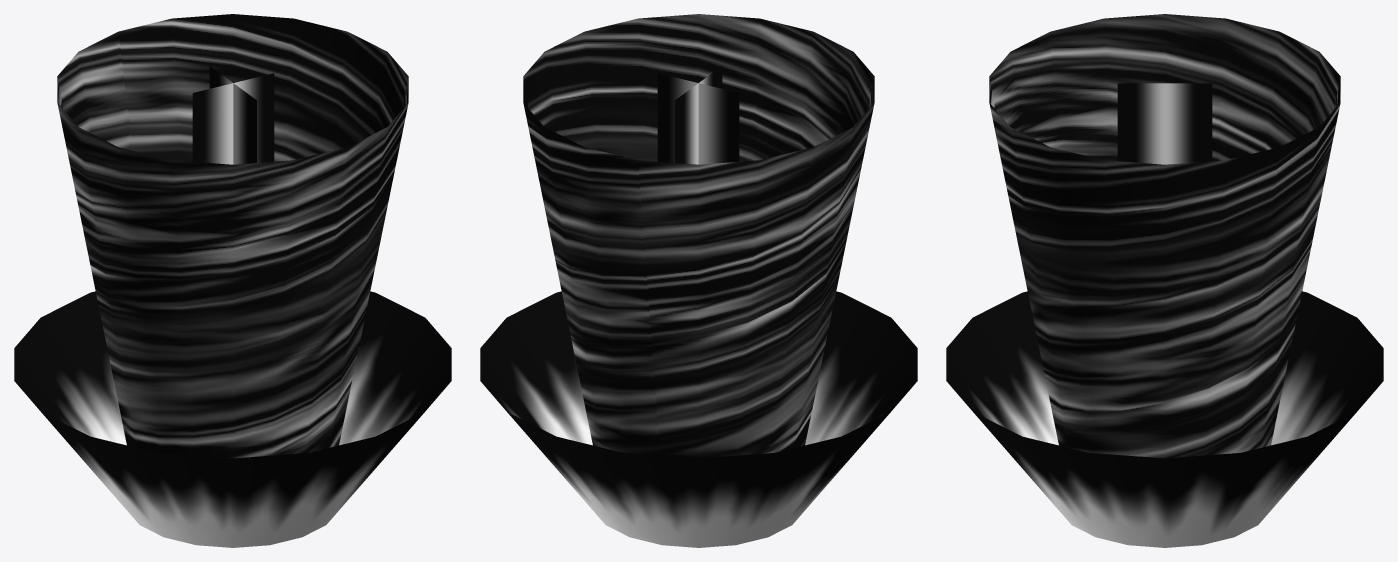
The model's file is Cyclone.FBX.
The picture shows the model from 3 angles, left to right: view 1: azimuth 30°, elevation 25°; view 2: azimuth 150°, elevation 25°; view 3: azimuth 270°, elevation 25°; orthographic projection.
Parts seen in each view (by area): view 1: Cylinder001, Cylinder002, Plane001, Plane002; view 2: Cylinder001, Cylinder002, Plane001, Plane002; view 3: Cylinder001, Cylinder002, Plane002.
Part boxes in pixels (x1,y1,x2,y2): Cylinder001: [57, 14, 408, 458]; Cylinder002: [14, 291, 451, 547]; Plane001: [192, 73, 274, 164]; Plane002: [209, 66, 256, 164]; Cylinder001: [523, 14, 874, 458]; Cylinder002: [480, 291, 917, 547]; Plane001: [657, 73, 739, 164]; Plane002: [675, 66, 722, 164]; Cylinder001: [989, 14, 1340, 458]; Cylinder002: [946, 291, 1383, 547]; Plane002: [1117, 83, 1212, 164].
Size of the model in its own units: 370 by 386 by 365.
